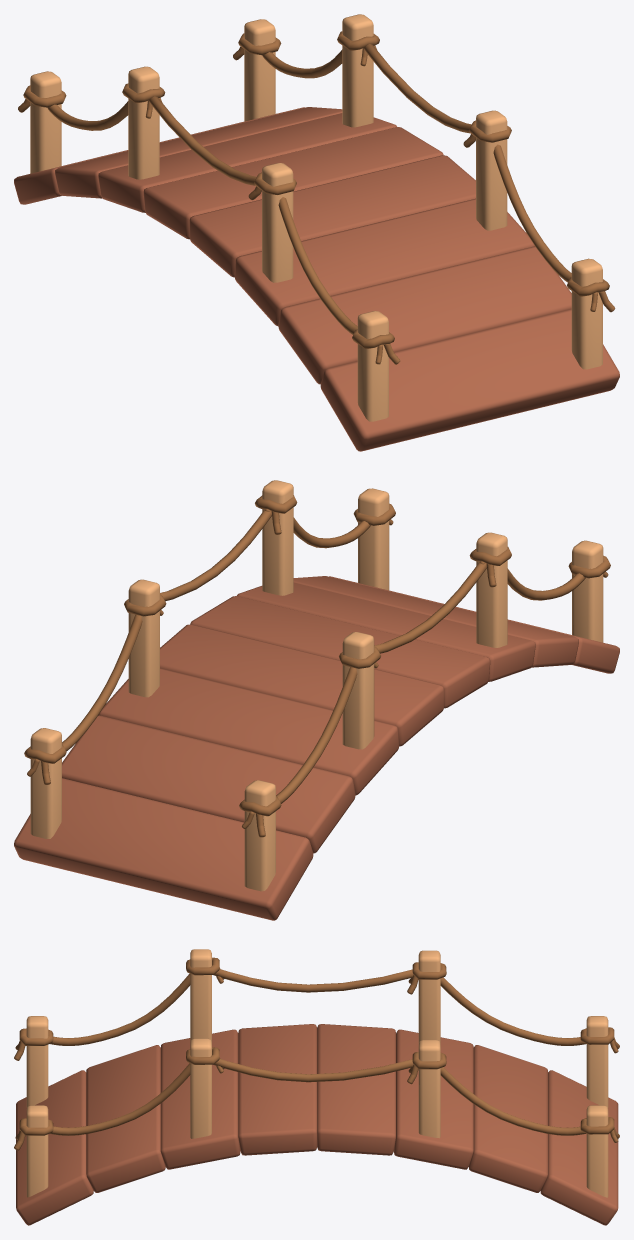
The model's file is Bridge_03.fbx.
3 views of the same model, one above another, from view 1: azimuth 30°, elevation 25°; view 2: azimuth 150°, elevation 25°; view 3: azimuth 270°, elevation 25° (orthographic). The views are drawn at different scales.
Visible parts, largest first — view 1: Bridge_03; view 2: Bridge_03; view 3: Bridge_03.
Boxes of the visible parts, left/top/right/bottom form: Bridge_03: left=14, top=14, right=619, bottom=451; Bridge_03: left=14, top=480, right=619, bottom=920; Bridge_03: left=14, top=949, right=619, bottom=1225.
Bounding box in the file's own units: 4097 × 3122 × 9741.
